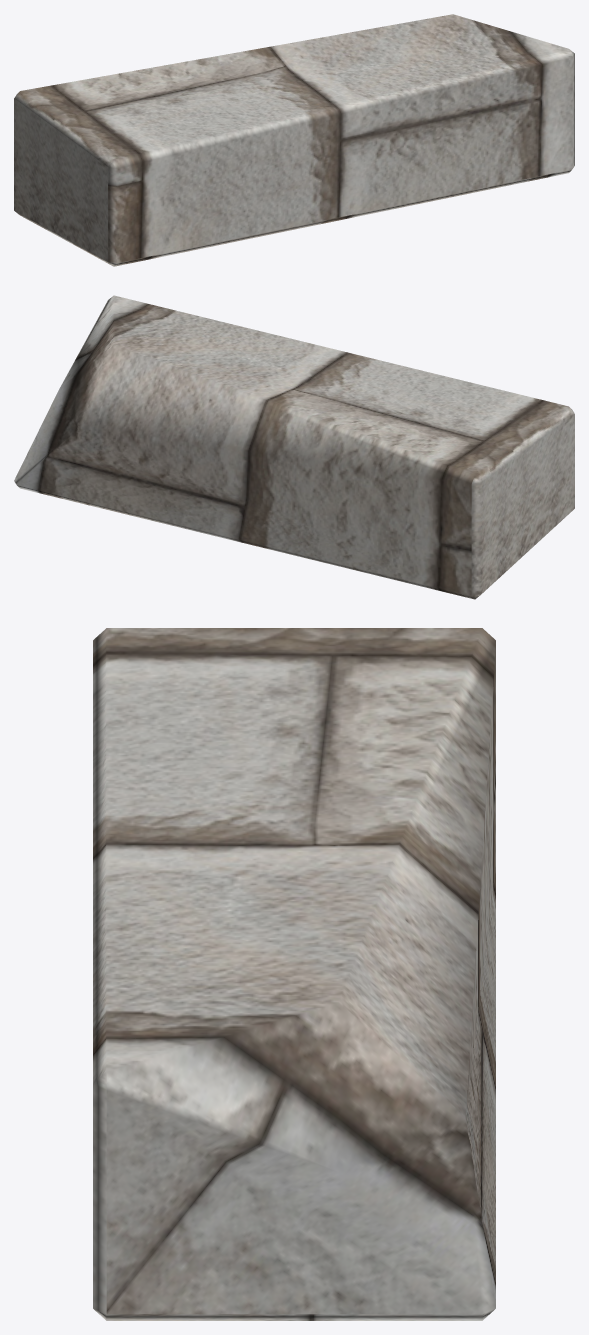
File: Brick_B.fbx
3 views of the same model, one above another, from view 1: azimuth 30°, elevation 25°; view 2: azimuth 150°, elevation 25°; view 3: azimuth 270°, elevation 25° (orthographic). The views are drawn at different scales.
Parts seen in each view (by area): view 1: brick; view 2: brick; view 3: brick.
Part boxes in pixels (x1=…): brick: x1=14, y1=14, x2=574, y2=266; brick: x1=14, y1=295, x2=574, y2=599; brick: x1=93, y1=628, x2=495, y2=1320.
Bounding box in the file's own units: 3.51 × 0.938 × 1.31.
